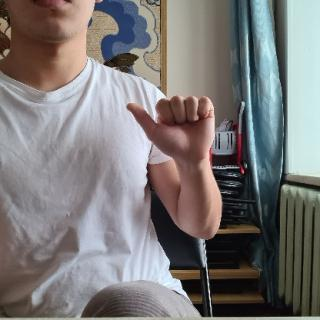DAD: (119, 81, 225, 169)
